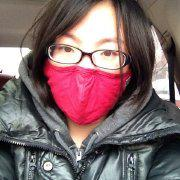OK: (45, 26, 133, 123)
